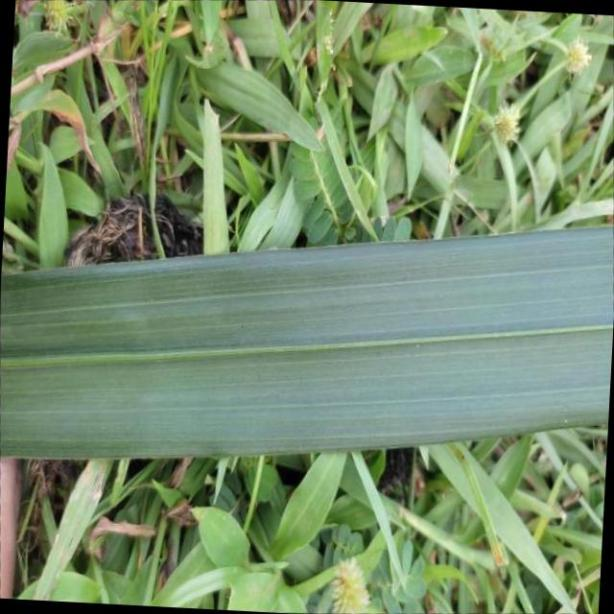Healthy: (1, 222, 614, 462)
